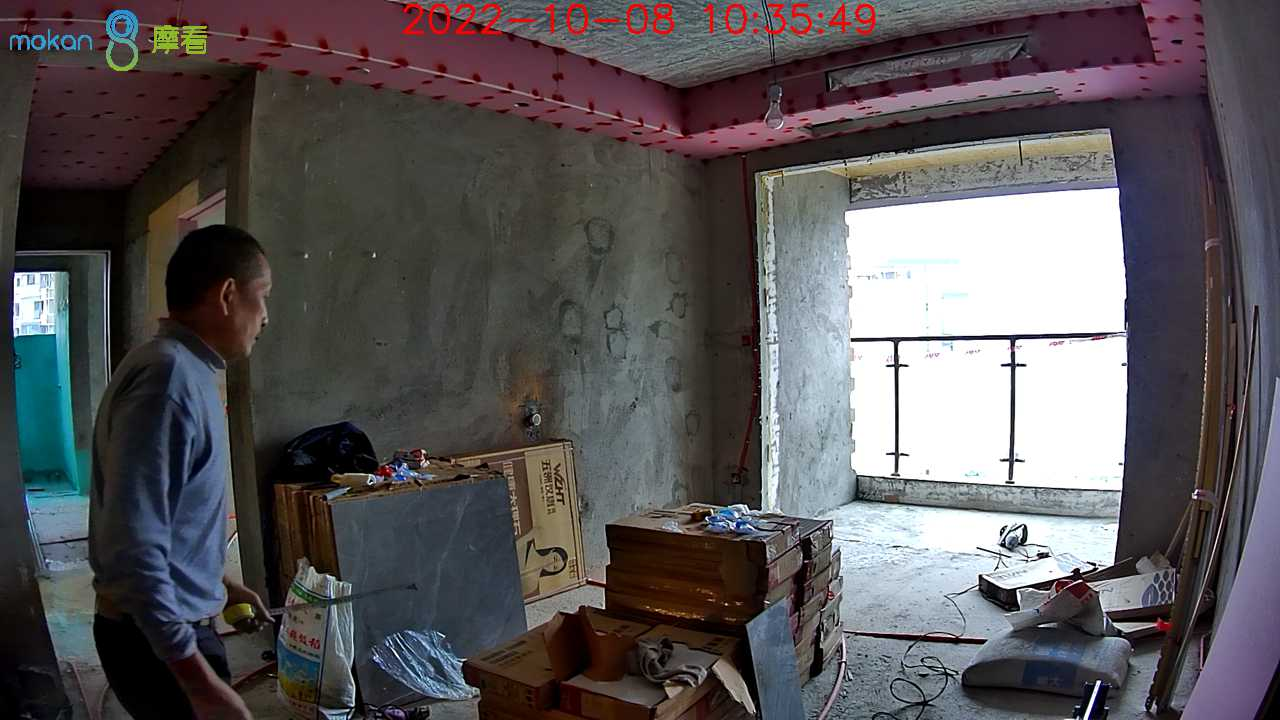people: (87, 226, 273, 720)
window: (851, 204, 1125, 492)
